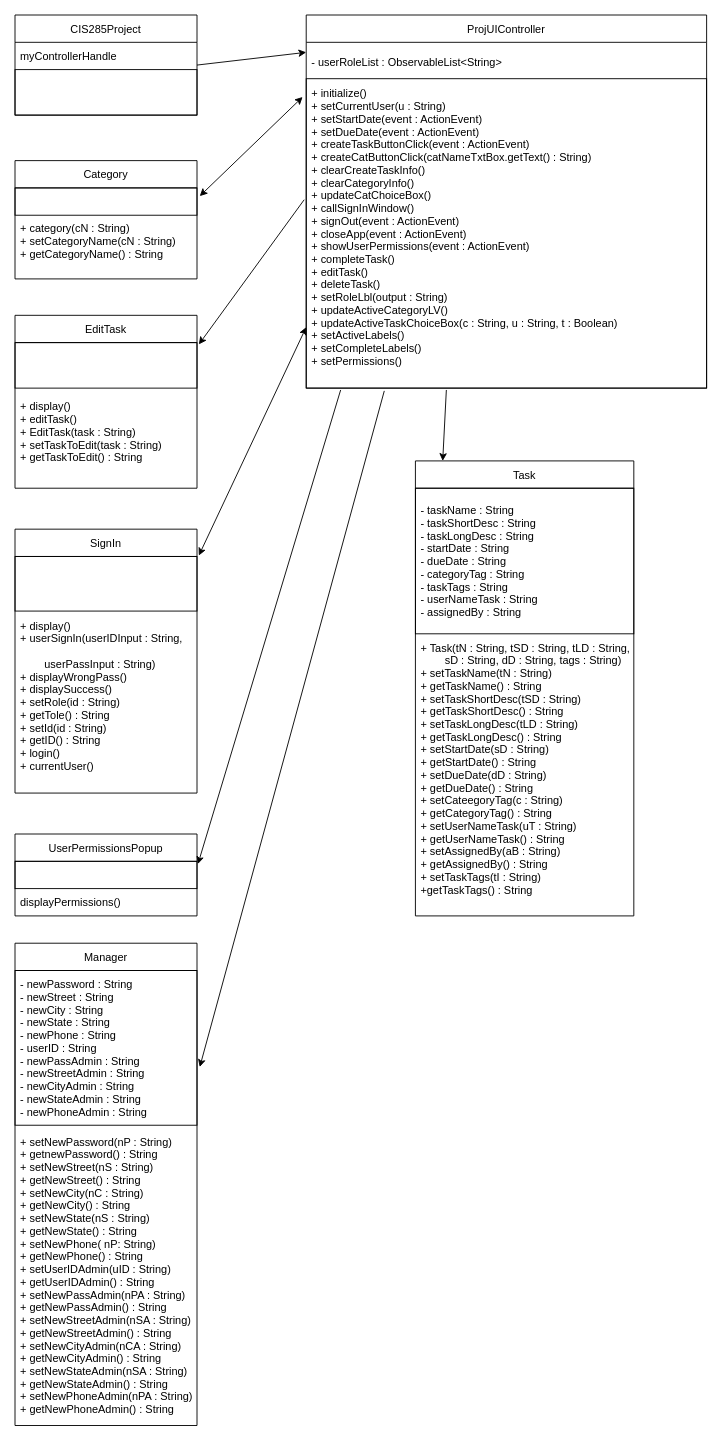
Image size: 722x1441. Some labels were removed from this diagram. The centre of each missing label's shape, as x and y in pixels:
"+ start(primaryStage : Stage) + main(args : String[]" belongs at pixel 105 92.
"- taskToEdit : String" belongs at pixel 105 365.
"- userID : String - userRole : String" belongs at pixel 105 583.
